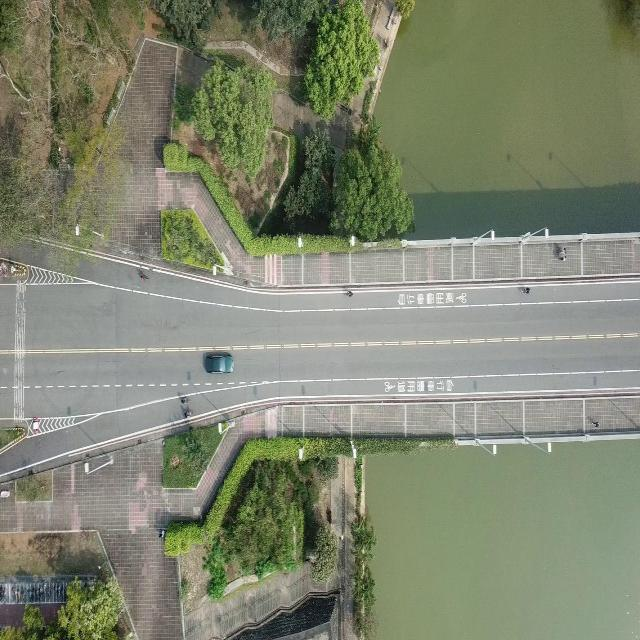bike: (183, 408, 195, 422), (138, 270, 148, 282), (345, 290, 356, 300), (520, 288, 534, 295), (181, 396, 189, 404)
car: (204, 352, 234, 373)
